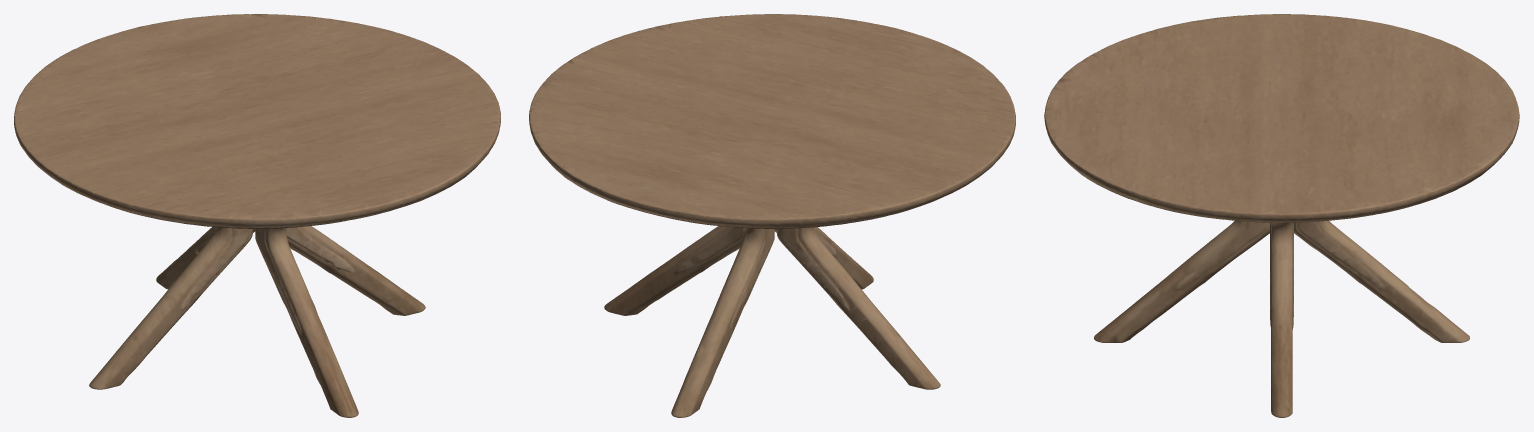
File: table.glb
3 views of the same model, side by side, from view 1: azimuth 30°, elevation 25°; view 2: azimuth 150°, elevation 25°; view 3: azimuth 270°, elevation 25° (orthographic). The views are drawn at different scales.
Visible parts, largest first — view 1: geometry_0; view 2: geometry_0; view 3: geometry_0.
Boxes of the visible parts, x1,y1,x2,y2 form: geometry_0: (14,14,500,417); geometry_0: (529,14,1015,417); geometry_0: (1044,14,1519,417).
Size of the model in its own units: 0.9991 by 0.5224 by 0.9997.
1 material, 1 textured.
